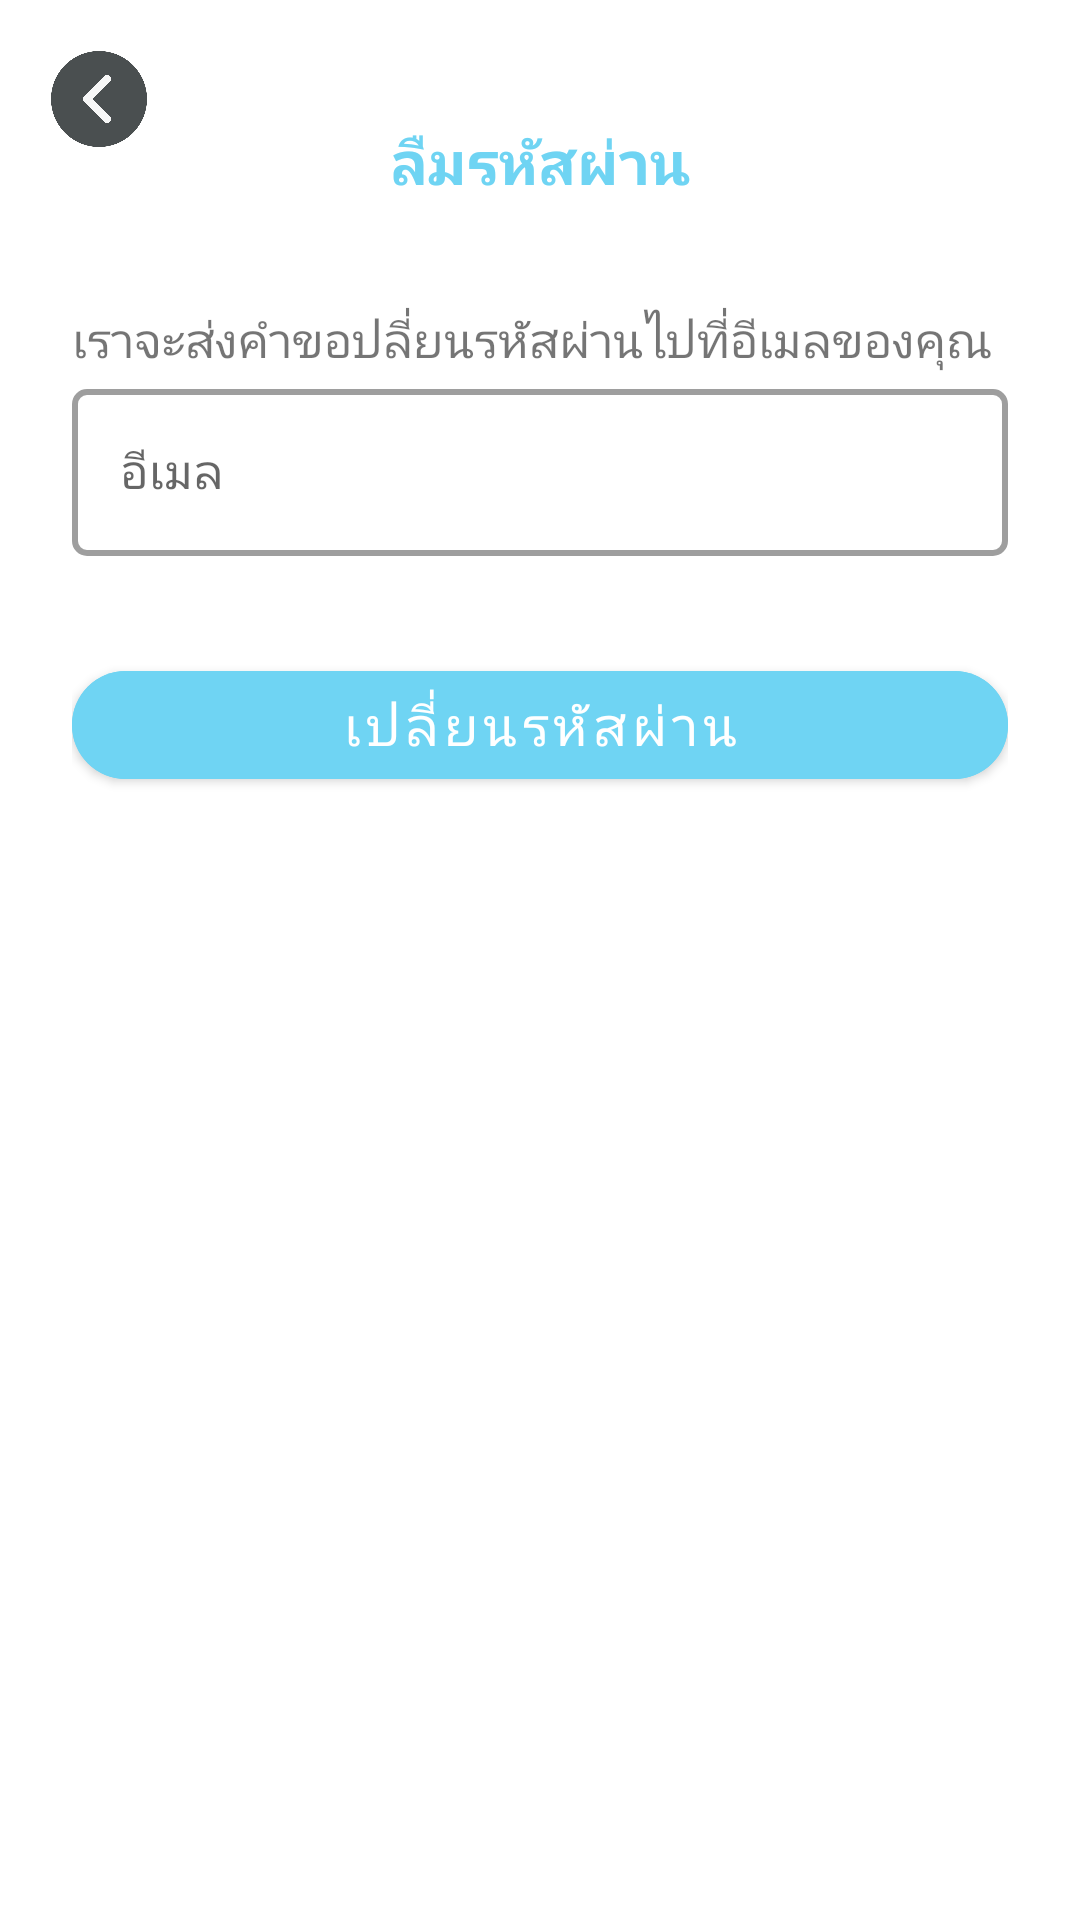

Where icons sit on this 1080px×1920px app screen, as rect(x1, y1, x2, y2):
previous: rect(51, 51, 147, 147)
